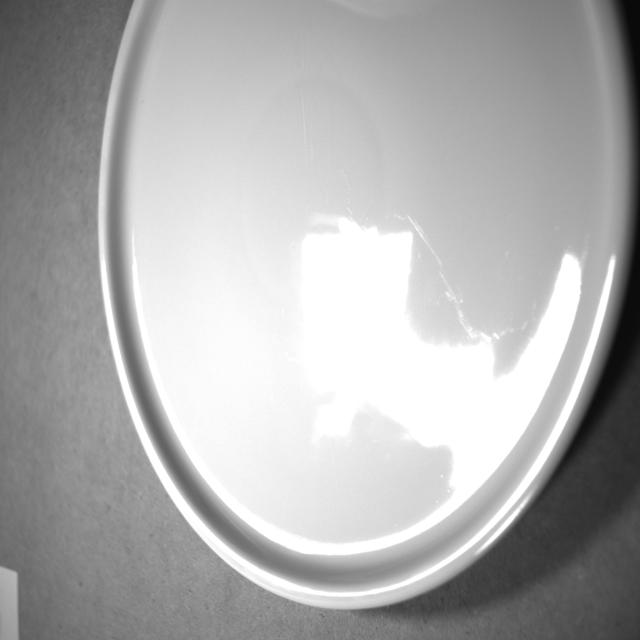plate: (73, 2, 640, 627)
